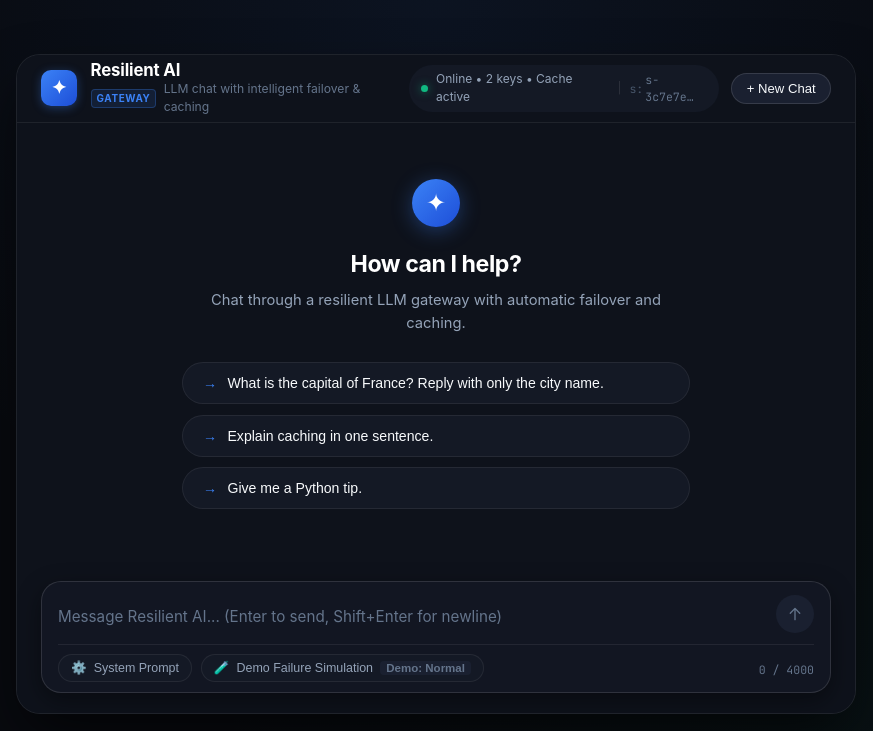
Resilient AI Frontend Component & Integration Tests › contains data-testid="system-prompt-input" when expanding system prompt settings
The width and height of the screenshot is (873, 731).
Later steps or results of the test are not shown.
Expected: the text "Online • 2 keys • Cache active" is shown, [436,71,572,104]
What coordinates should you click on to do the following:
click the text "System Prompt"
I would click on:
 (136, 668)
Its box is [94,661,179,675].
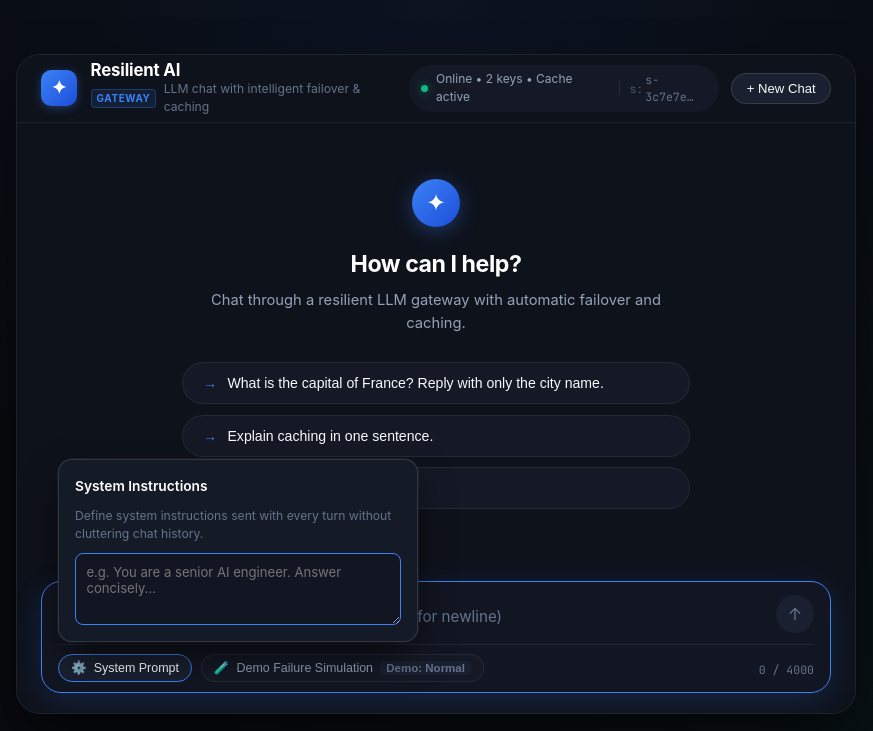
Now the text box with test id "system-prompt-input" is shown, box [75,553,401,625]
